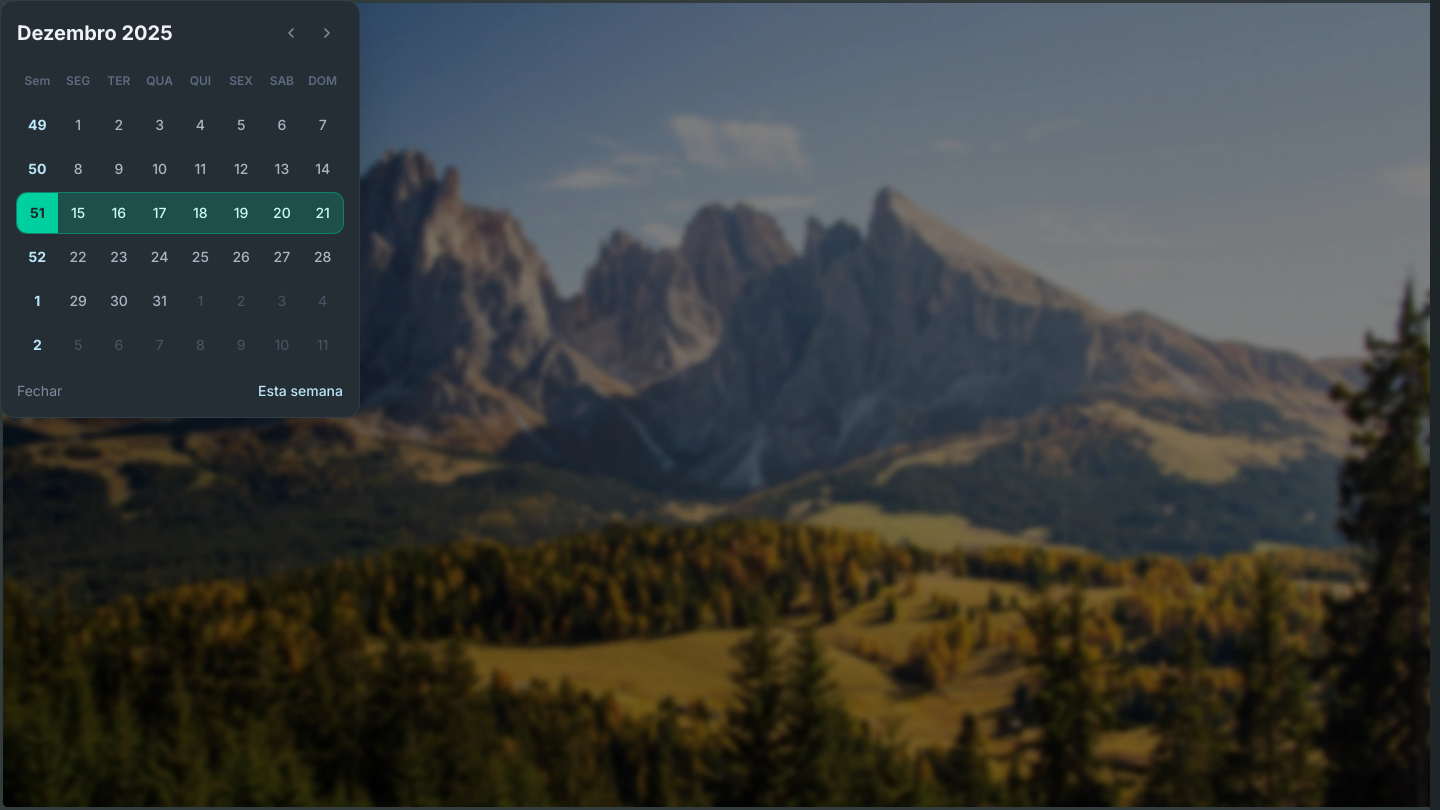
it: WeekPicker › WeekPickerCalendar › should navigate months
The width and height of the screenshot is (1440, 810).
Previous month
Click the 1st button. click: (291, 33)
box: [275, 17, 307, 49]
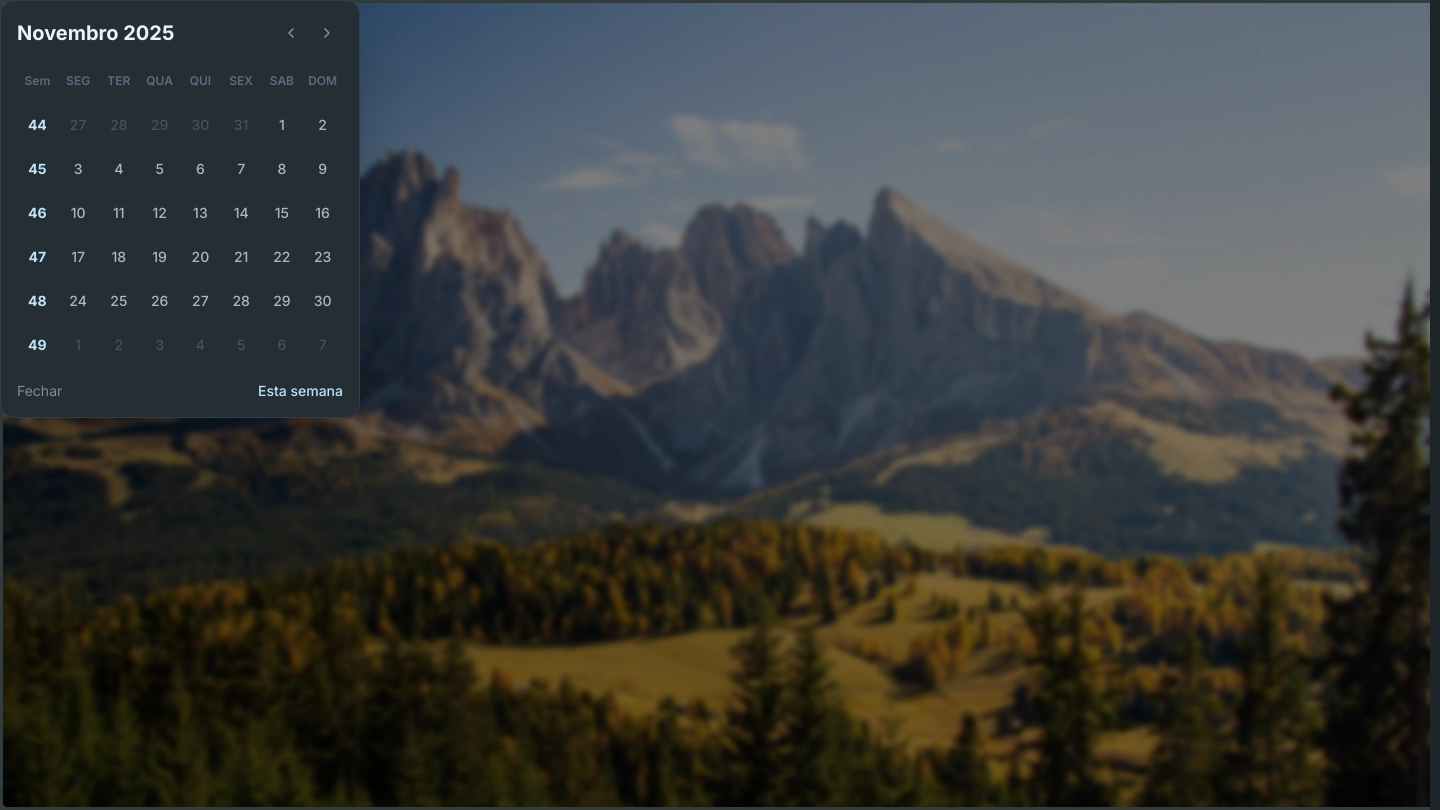
Expected: the heading "Novembro 2025" is shown, [17, 19, 174, 47]
Next month (back to Dec)
Click the 2nd button. click: (327, 33)
box: [311, 17, 343, 49]
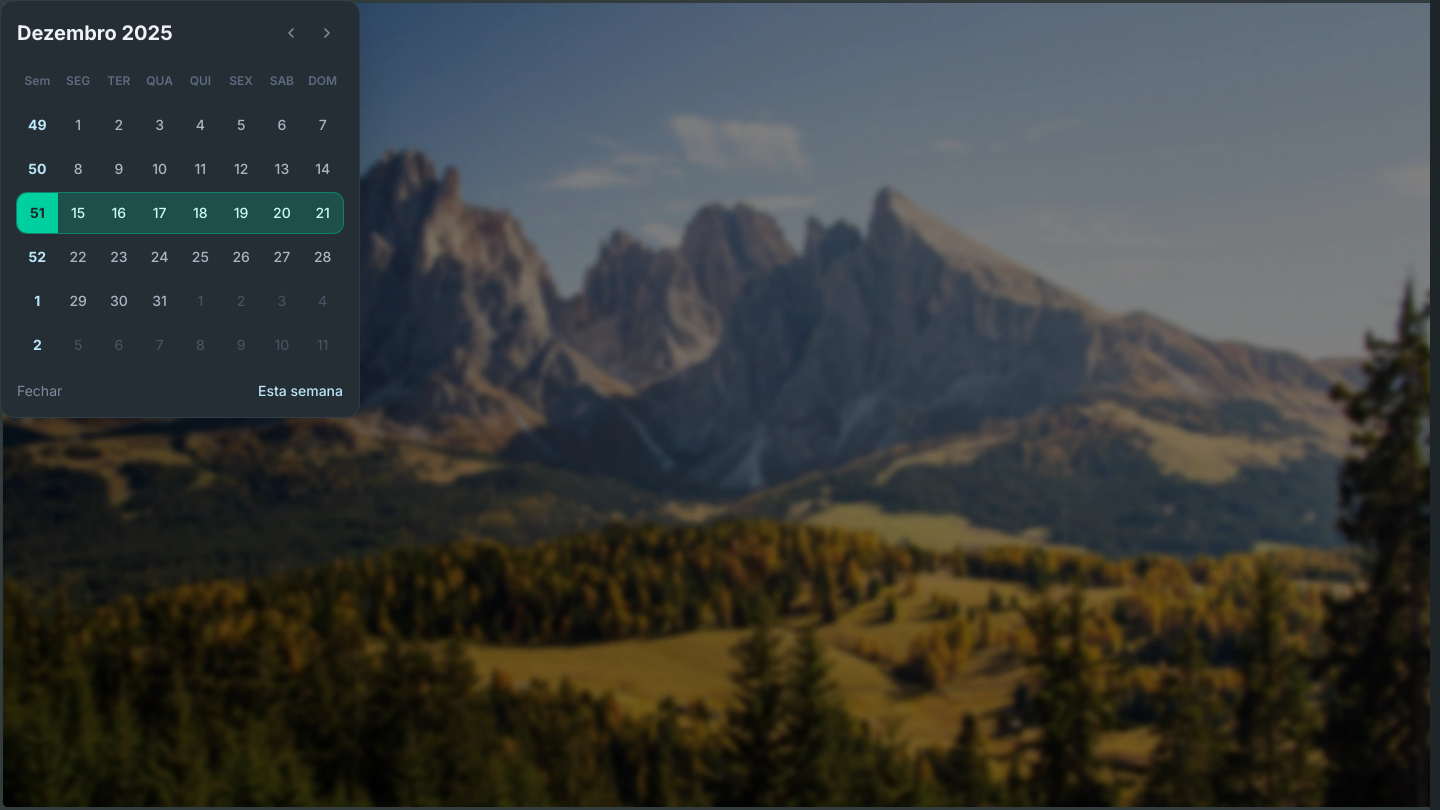
Expected: the heading "Dezembro 2025" is shown, [17, 19, 173, 47]
